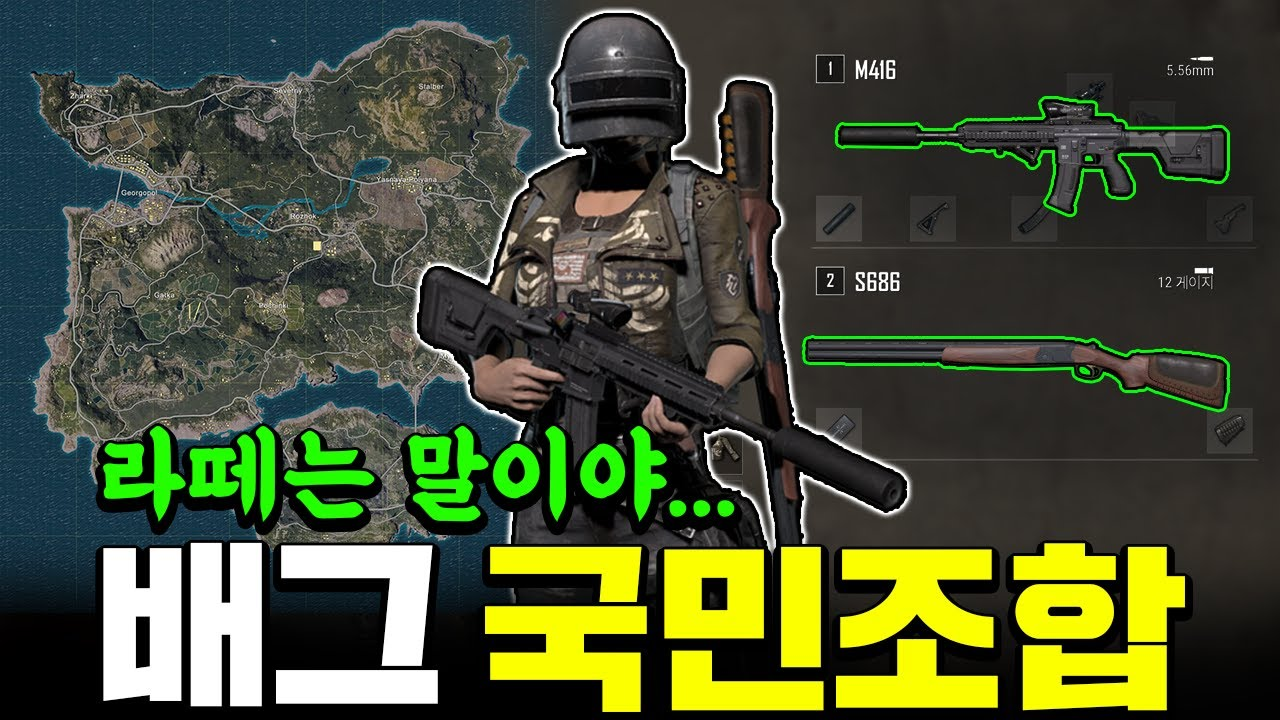라떼는: (93, 423, 382, 534)
말이야...: (402, 423, 737, 534)
